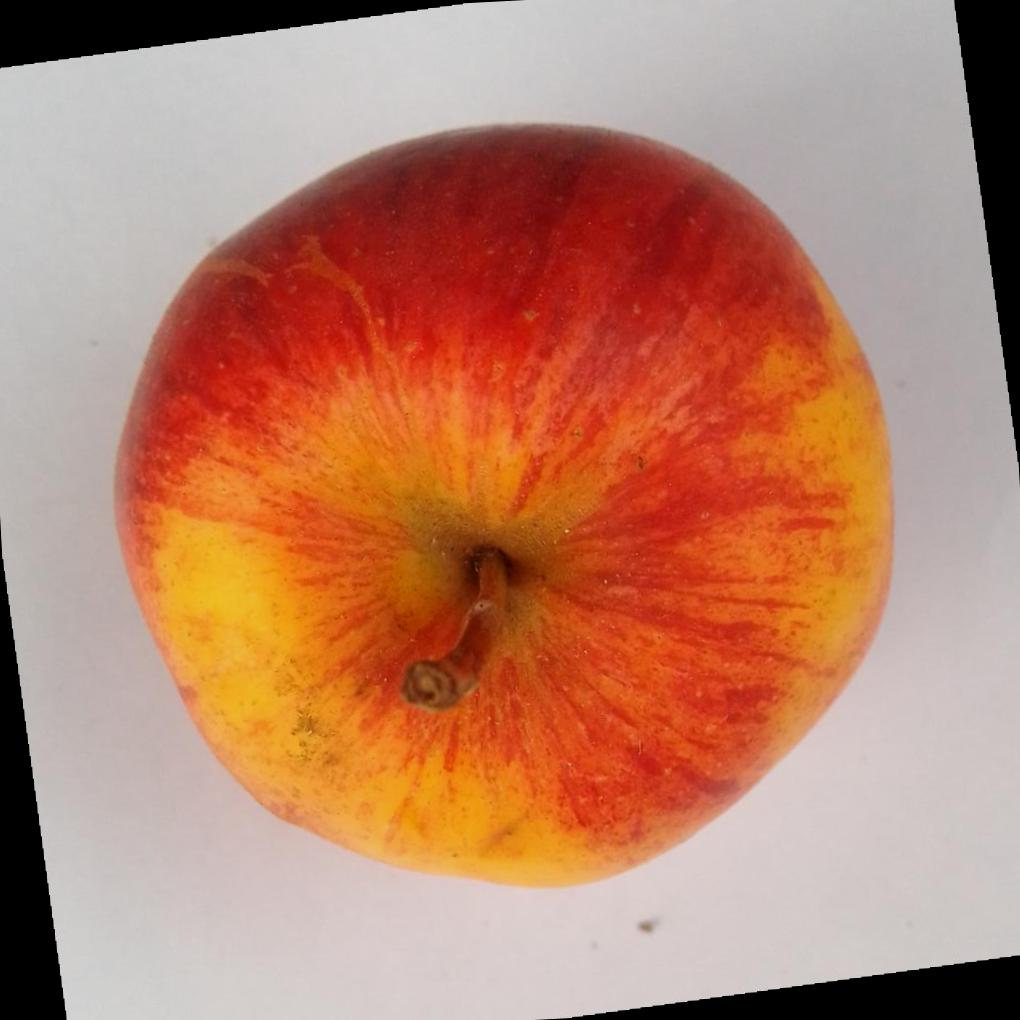FreshGuava: (115, 121, 900, 890)
